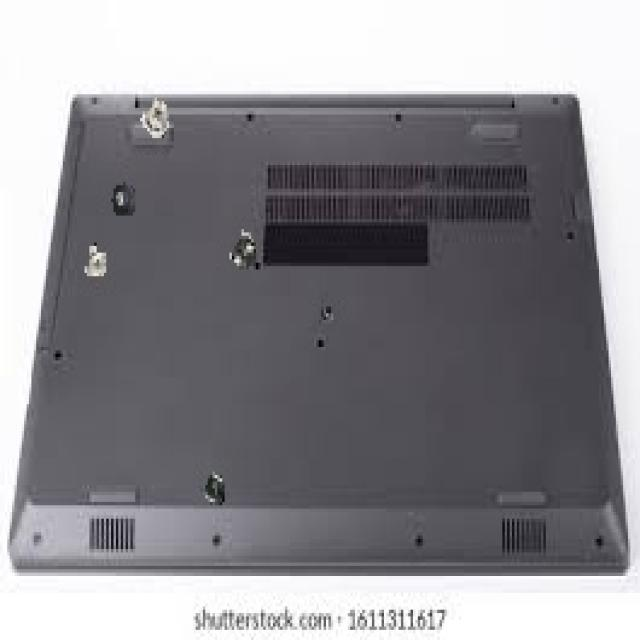lock: (140, 98, 169, 138), (227, 229, 256, 269), (200, 472, 225, 505), (82, 243, 106, 276)
missing_screw: (111, 182, 135, 216), (312, 293, 336, 327)
